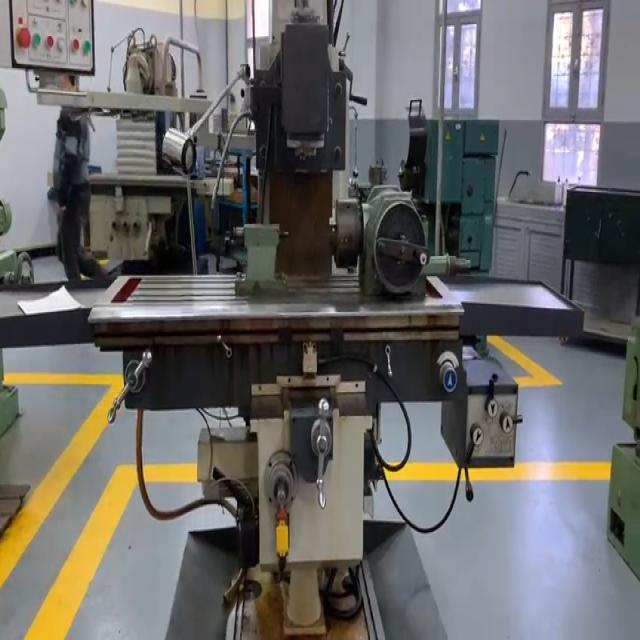fraiseuse: (9, 0, 582, 635)
